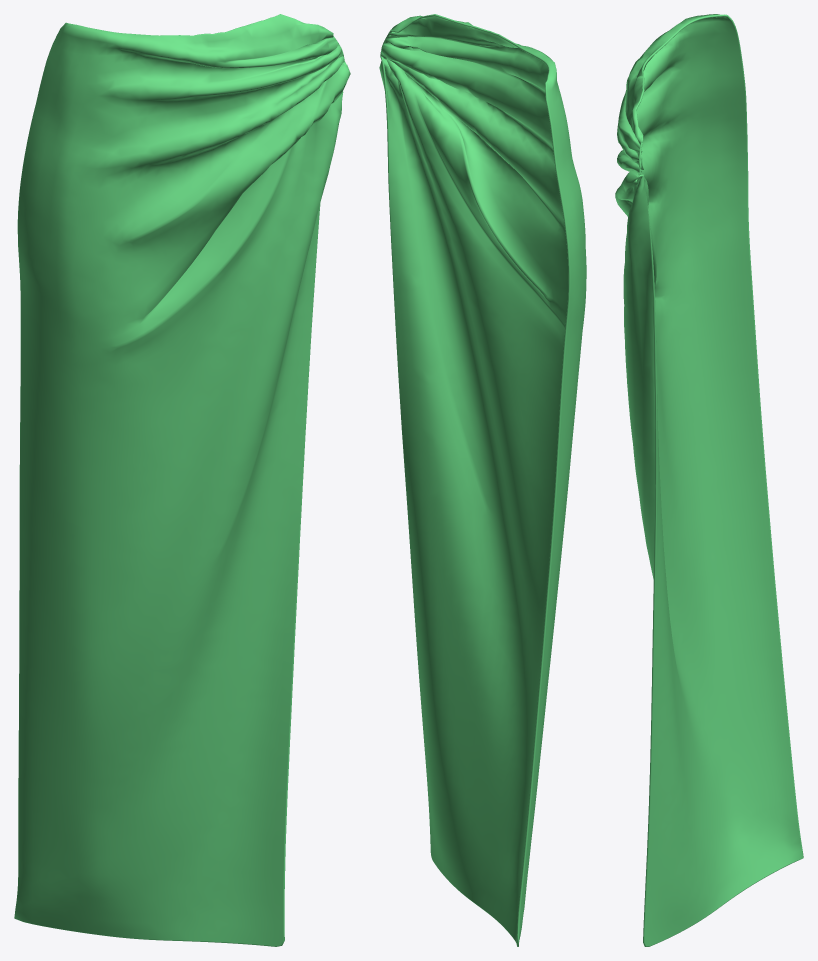
3 views of the same model, side by side, from view 1: azimuth 30°, elevation 25°; view 2: azimuth 150°, elevation 25°; view 3: azimuth 270°, elevation 25° (orthographic). The views are drawn at different scales.
Visible parts, largest first — view 1: Object_3; view 2: Object_3; view 3: Object_3.
Boxes of the visible parts, box(x1,y1,x2,y2) form: Object_3: box(14, 14, 350, 946); Object_3: box(379, 14, 586, 946); Object_3: box(615, 14, 803, 946).
Bounding box in the file's own units: 0.2566 × 0.8509 × 0.1692.
